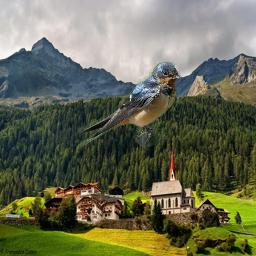Swallow: (76, 62, 182, 151)
